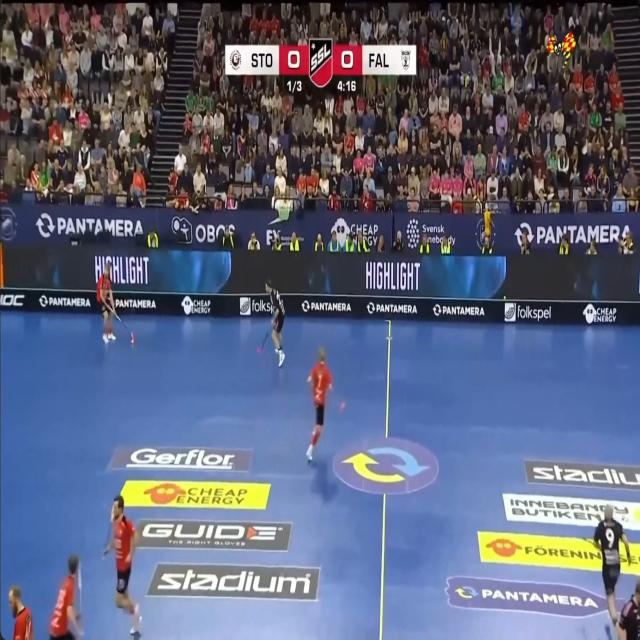Balls: (131, 334, 134, 344)
player: (104, 495, 141, 634), (593, 504, 630, 626), (306, 347, 332, 461), (50, 555, 81, 639), (265, 279, 284, 366), (97, 263, 115, 342), (617, 578, 640, 639), (9, 585, 33, 639)
